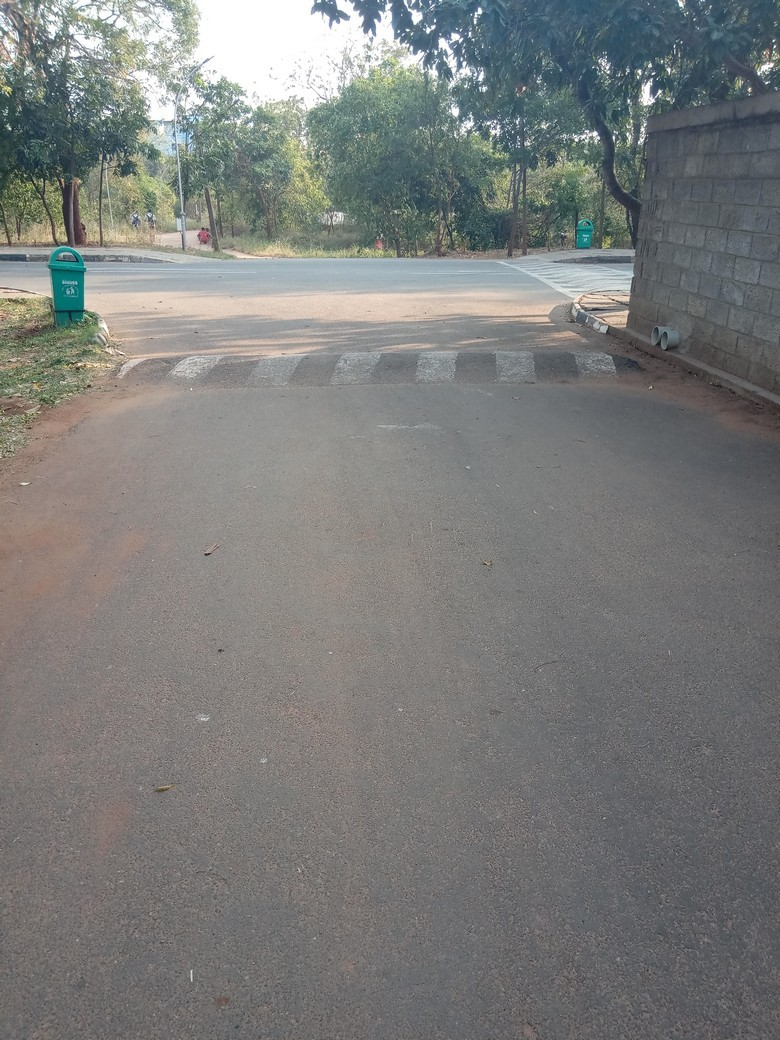bump: (92, 346, 665, 392)
